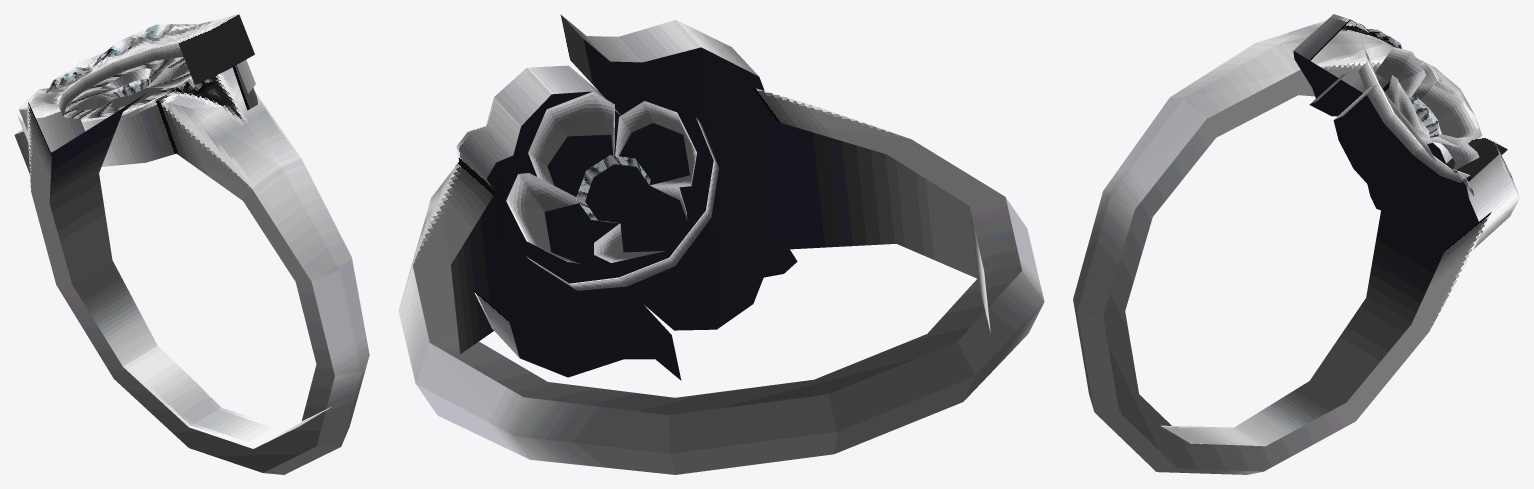
File: ps2_save-icons_lastescort2.glb
3 renders of one model, left to right at view 1: azimuth 30°, elevation 25°; view 2: azimuth 150°, elevation 25°; view 3: azimuth 270°, elevation 25°, orthographic. The views are drawn at different scales.
Parts seen in each view (by area): view 1: love.ico; view 2: love.ico; view 3: love.ico.
Part boxes in pixels (x1=…): love.ico: x1=14, y1=14, x2=369, y2=474; love.ico: x1=398, y1=14, x2=1044, y2=474; love.ico: x1=1073, y1=14, x2=1519, y2=474.
Bounding box in the file's own units: 3.02 × 3.19 × 3.19.
1 material, 1 textured.
